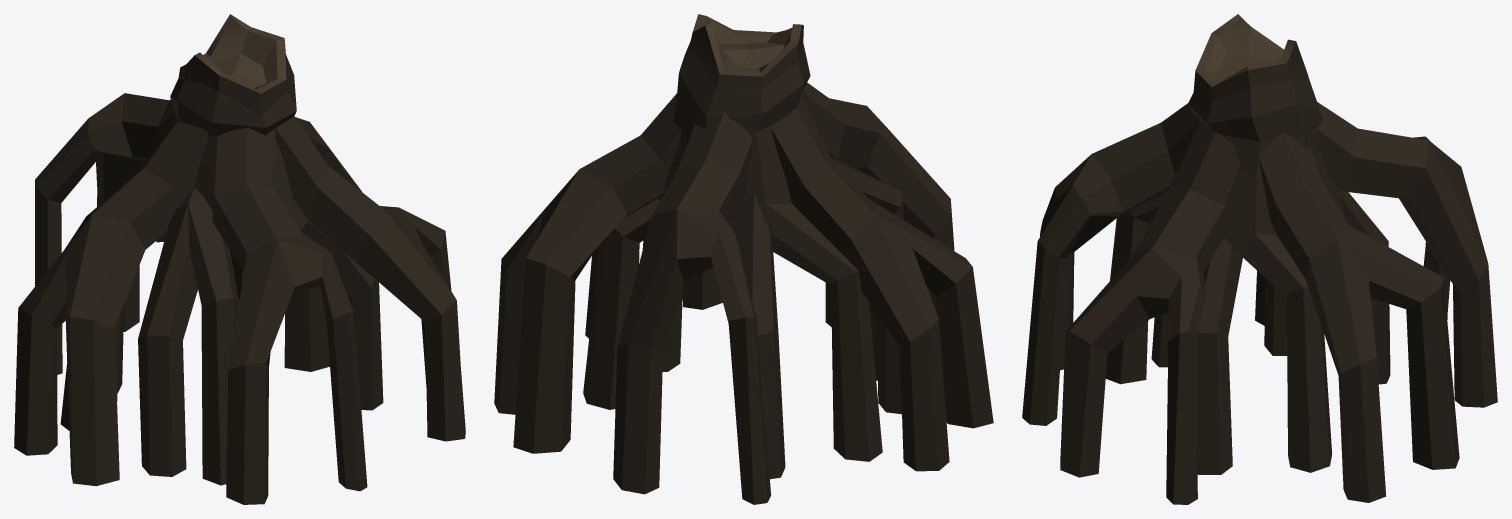
The model's file is synty-tree-swamp-stump-01.gltf.
The picture shows the model from 3 angles, left to right: view 1: azimuth 30°, elevation 25°; view 2: azimuth 150°, elevation 25°; view 3: azimuth 270°, elevation 25°; orthographic projection. The views are drawn at different scales.
Parts seen in each view (by area): view 1: SM_Tree_Swamp_Stump_01; view 2: SM_Tree_Swamp_Stump_01; view 3: SM_Tree_Swamp_Stump_01.
Boxes of the visible parts, <box> form: SM_Tree_Swamp_Stump_01: <box>14,14,465,504</box>; SM_Tree_Swamp_Stump_01: <box>494,14,993,504</box>; SM_Tree_Swamp_Stump_01: <box>1022,14,1497,504</box>.
Size of the model in its own units: 1.88 by 1.74 by 1.96.
1 material, 1 textured.
